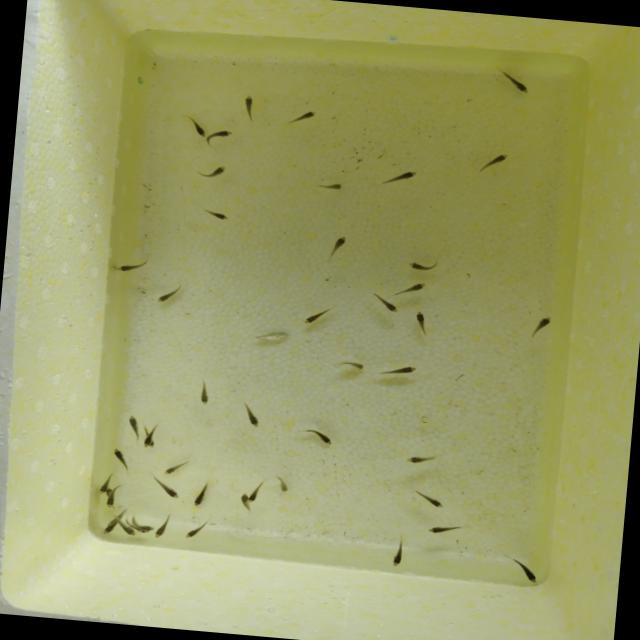fingerling: (490, 65, 536, 100), (501, 552, 544, 587), (318, 227, 358, 264), (404, 486, 454, 512), (383, 532, 415, 570), (376, 164, 422, 190), (526, 308, 560, 343), (476, 146, 514, 176), (150, 280, 189, 308), (298, 300, 336, 328), (406, 305, 436, 340), (296, 422, 336, 448), (424, 518, 470, 540), (398, 448, 444, 470), (150, 474, 186, 502), (192, 162, 238, 183), (113, 253, 148, 280), (380, 359, 422, 381), (237, 397, 264, 431), (399, 257, 444, 276), (162, 453, 196, 478), (181, 517, 214, 542), (202, 126, 238, 148), (286, 106, 322, 128), (237, 90, 260, 124), (329, 355, 368, 375), (393, 278, 431, 298), (198, 203, 234, 224), (151, 510, 175, 540), (181, 114, 208, 140), (312, 178, 352, 195), (190, 481, 211, 512), (196, 374, 213, 409), (123, 412, 142, 442), (375, 298, 405, 316), (271, 473, 292, 498), (95, 468, 113, 494), (248, 478, 264, 506), (111, 446, 130, 469), (100, 520, 119, 537), (237, 491, 250, 514), (141, 430, 153, 450), (120, 524, 136, 538), (136, 521, 154, 532), (104, 494, 116, 508)
